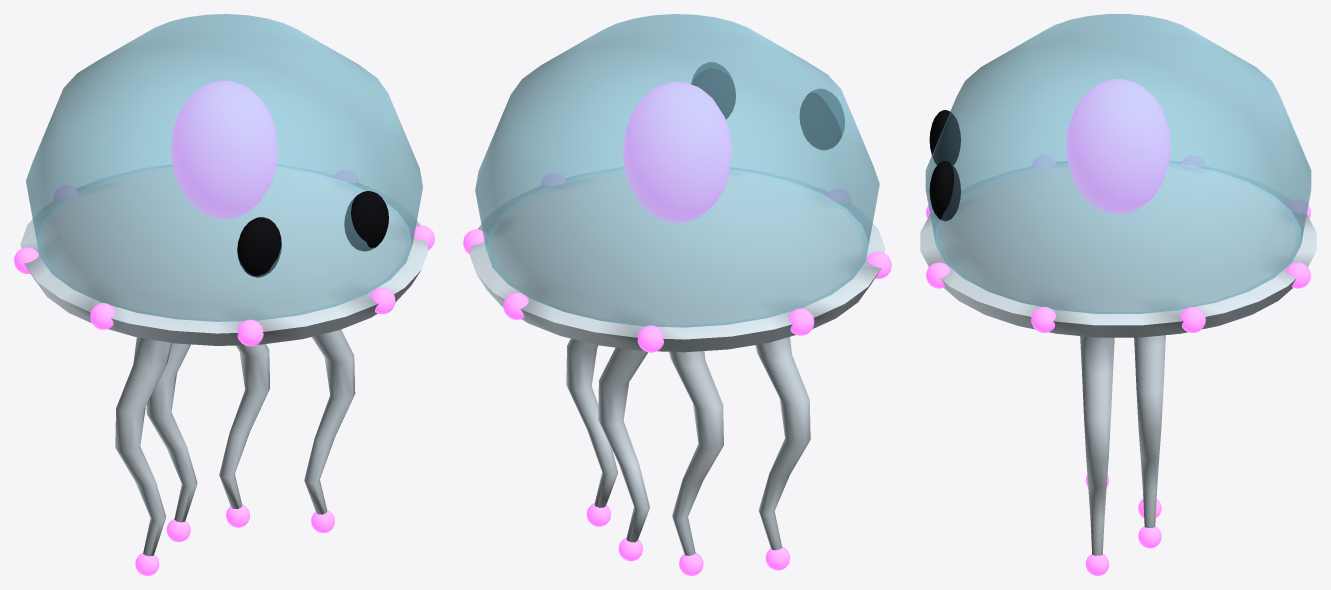
Rendered from alien_jelly.glb.
3 renders of one model, left to right at view 1: azimuth 30°, elevation 25°; view 2: azimuth 150°, elevation 25°; view 3: azimuth 270°, elevation 25°, orthographic. The views are drawn at different scales.
Visible parts, largest first — view 1: bell, skirt, heart, tentacle, tentacle.001, tentacle.003, tentacle.002, eye.001, eye, bulb.004, bulb.005; view 2: bell, skirt, heart, tentacle, tentacle.002, tentacle.003, tentacle.001, eye, eye.001, bulb.007, bulb.006; view 3: bell, skirt, heart, tentacle.001, tentacle.003, eye.001, eye, bulb.001, bulb.002.
Part boxes in pixels (x1,y1,x2,y2): bell: (26, 14, 422, 321); skirt: (20, 164, 428, 345); heart: (171, 80, 277, 219); tentacle: (115, 337, 172, 556); tentacle.001: (304, 329, 355, 514); tentacle.003: (219, 344, 269, 508); tentacle.002: (146, 343, 197, 522); eye.001: (344, 191, 388, 251); eye: (237, 217, 281, 277); bulb.004: (237, 319, 263, 346); bulb.005: (90, 303, 115, 329); bell: (475, 14, 879, 327); skirt: (469, 167, 885, 352); heart: (623, 82, 731, 222); tentacle: (755, 337, 810, 550); tentacle.002: (669, 351, 723, 555); tentacle.003: (598, 347, 649, 542); tentacle.001: (566, 338, 617, 507); eye: (799, 89, 844, 150); eye.001: (691, 62, 735, 119); bulb.007: (637, 325, 663, 352); bulb.006: (788, 308, 814, 335); bell: (925, 14, 1311, 313); skirt: (920, 161, 1316, 337); heart: (1066, 79, 1170, 214); tentacle.001: (1080, 336, 1114, 555); tentacle.003: (1134, 335, 1165, 527); eye.001: (929, 161, 960, 221); eye: (929, 110, 960, 165); bulb.001: (1181, 307, 1205, 332); bulb.002: (1031, 307, 1055, 332).
Size of the model in its own units: 1.51 by 2.07 by 1.51.
